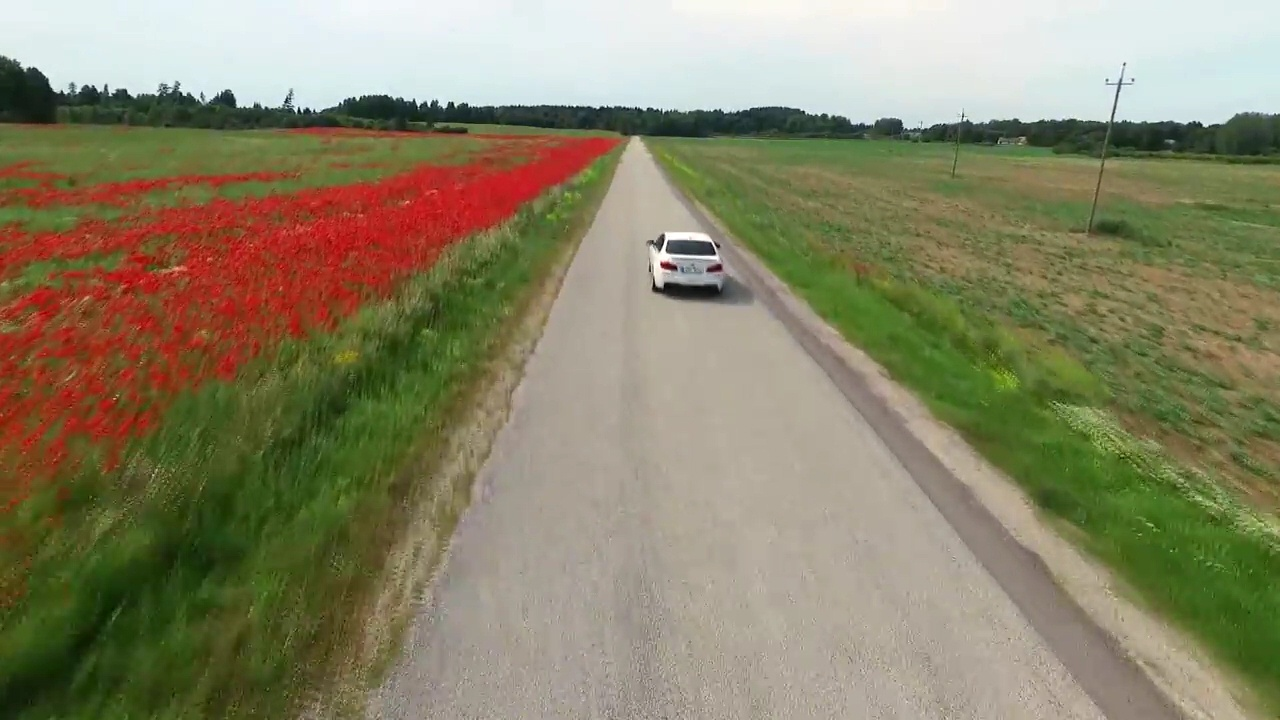araba: (646, 231, 726, 293)
